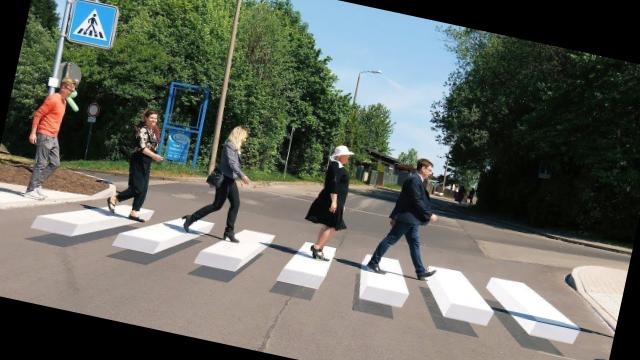crosswalk-sign: (66, 1, 121, 51)
